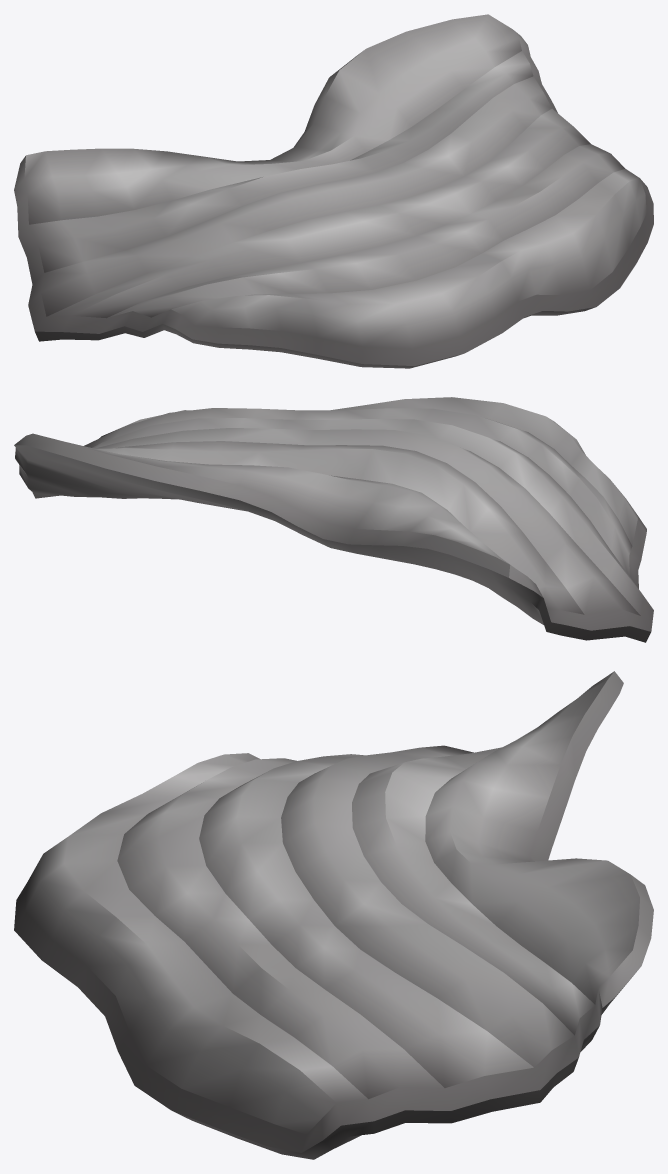
File: agaricia-speciosa.glb
3 renders of one model, top to bottom at view 1: azimuth 30°, elevation 25°; view 2: azimuth 150°, elevation 25°; view 3: azimuth 270°, elevation 25°, orthographic. The views are drawn at different scales.
Visible parts, largest first — view 1: agaricia-speciosa; view 2: agaricia-speciosa; view 3: agaricia-speciosa.
Part boxes in pixels (left/top/right/bottom): agaricia-speciosa: left=14, top=14, right=653, bottom=368; agaricia-speciosa: left=14, top=397, right=653, bottom=642; agaricia-speciosa: left=14, top=671, right=653, bottom=1159.
Bounding box in the file's own units: 0.1407 × 0.0345 × 0.099.
1 material, 1 textured.
